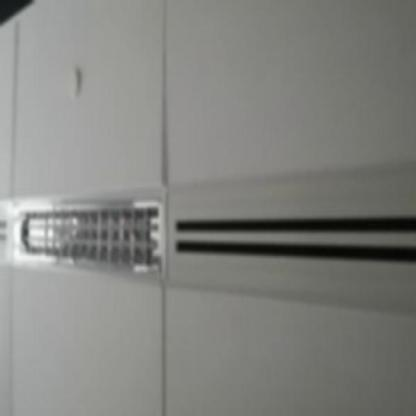light_off: (9, 169, 172, 287)
